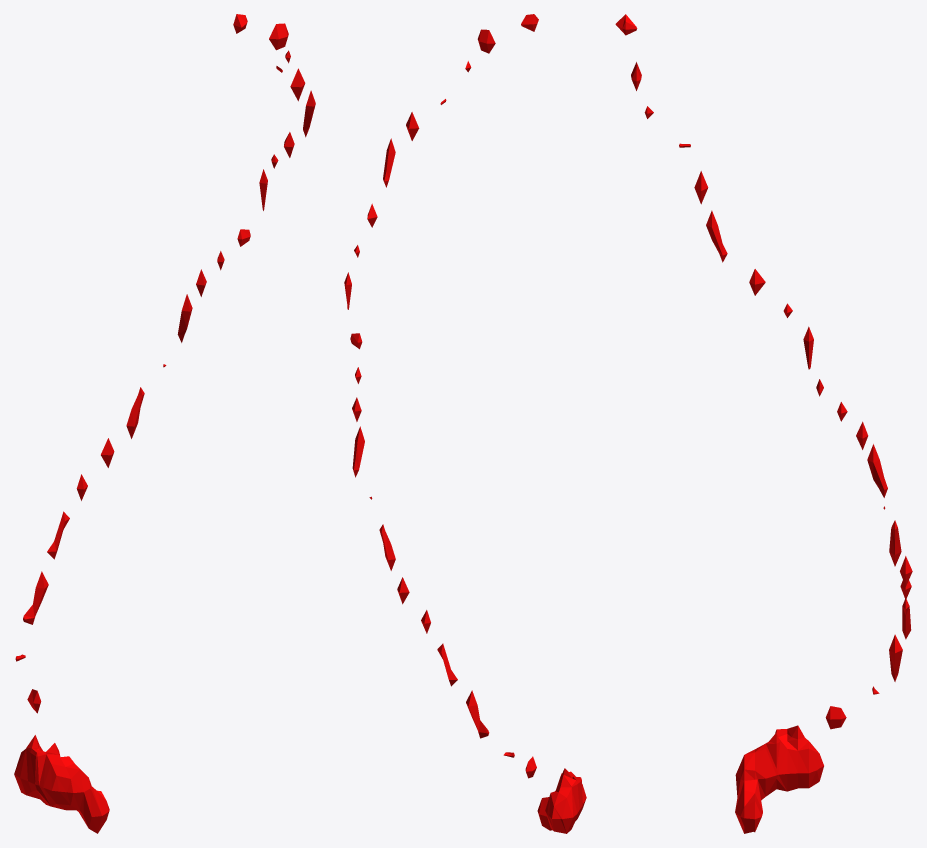
File: rpsA_coarse.dae
3 renders of one model, left to right at view 1: azimuth 30°, elevation 25°; view 2: azimuth 150°, elevation 25°; view 3: azimuth 270°, elevation 25°, orthographic. The views are drawn at different scales.
Visible parts, largest first — view 1: rpsA; view 2: rpsA; view 3: rpsA.
Part boxes in pixels (x1,y1,x2,y2): rpsA: (14,14,315,833); rpsA: (344,14,586,833); rpsA: (615,14,912,833).
Bounding box in the file's own units: 227 × 718 × 225.
